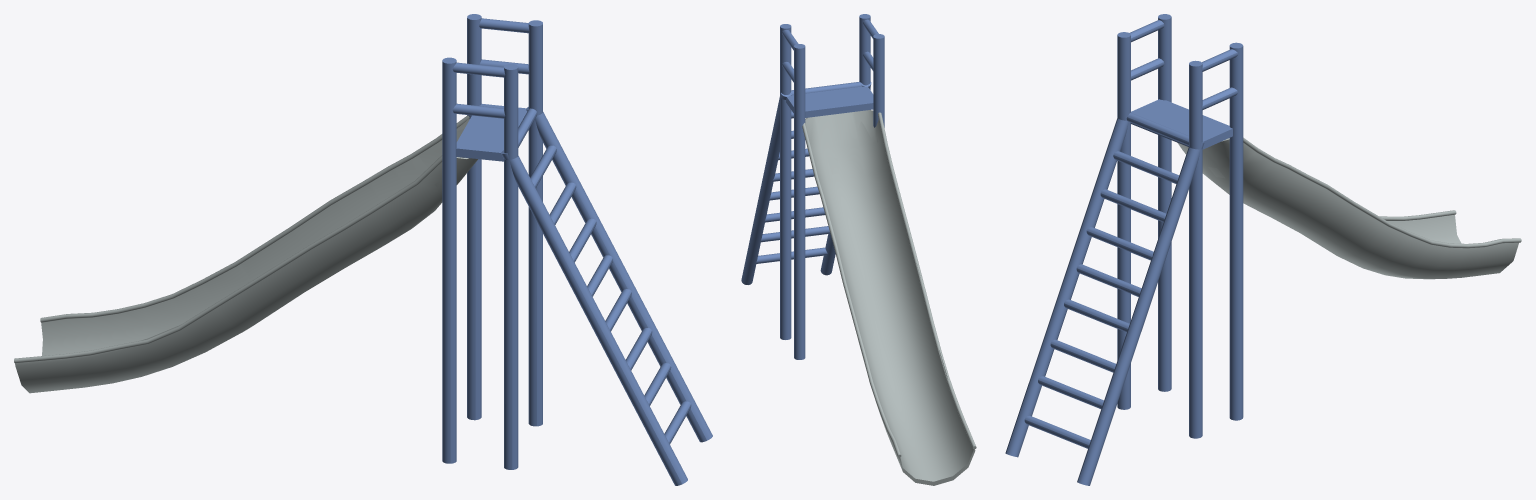
Rendered from playground_slide.fbx.
3 renders of one model, left to right at view 1: azimuth 30°, elevation 25°; view 2: azimuth 150°, elevation 25°; view 3: azimuth 270°, elevation 25°, orthographic. The views are drawn at different scales.
Visible parts, largest first — view 1: playground1:tsu3; view 2: playground1:tsu3; view 3: playground1:tsu3.
Boxes of the visible parts, x1,y1,x2,y2 form: playground1:tsu3: [14, 14, 712, 485]; playground1:tsu3: [741, 14, 976, 485]; playground1:tsu3: [1005, 14, 1521, 485].
Size of the model in its own units: 66.71 by 51.15 by 64.18.
